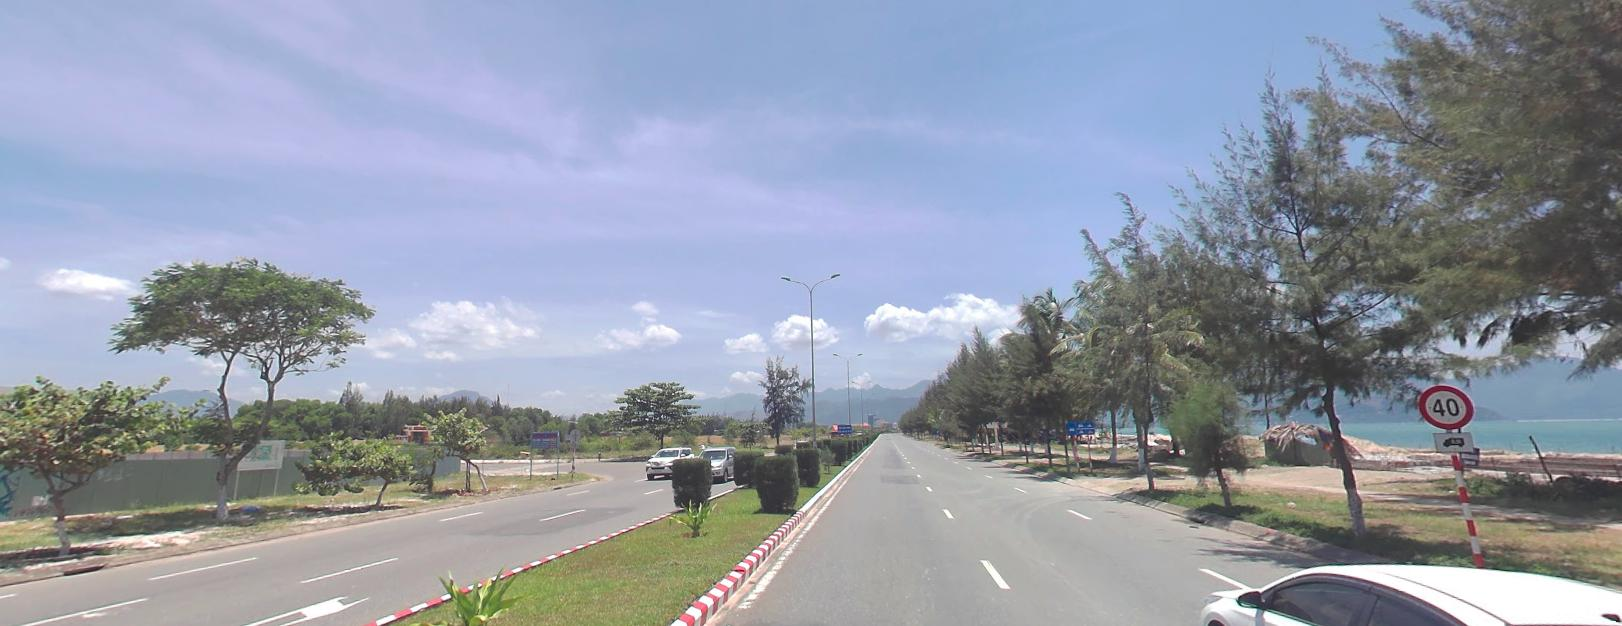Gioi han toc do: (1417, 378, 1479, 433)
